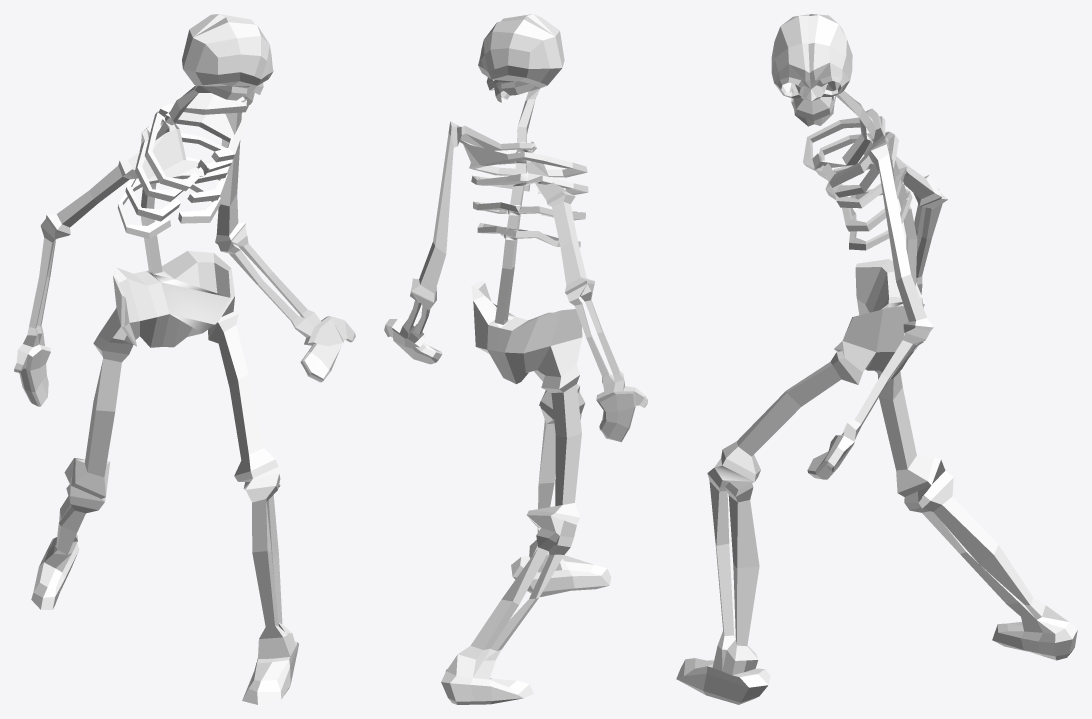
File: SkeletonIdle(29).obj
3 views of the same model, side by side, from view 1: azimuth 30°, elevation 25°; view 2: azimuth 150°, elevation 25°; view 3: azimuth 270°, elevation 25° (orthographic). The views are drawn at different scales.
Parts seen in each view (by area): view 1: Object002; view 2: Object002; view 3: Object002.
Part boxes in pixels (<box>): Object002: <box>14,14,355,704</box>; Object002: <box>384,14,647,704</box>; Object002: <box>676,14,1077,704</box>.
Bounding box in the file's own units: 564 × 1112 × 601.
